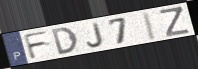7: (107, 16, 129, 45)
D: (50, 26, 80, 56)
F: (22, 29, 50, 60)
I: (141, 11, 158, 41)
J: (85, 21, 105, 49)
Z: (158, 6, 191, 38)
